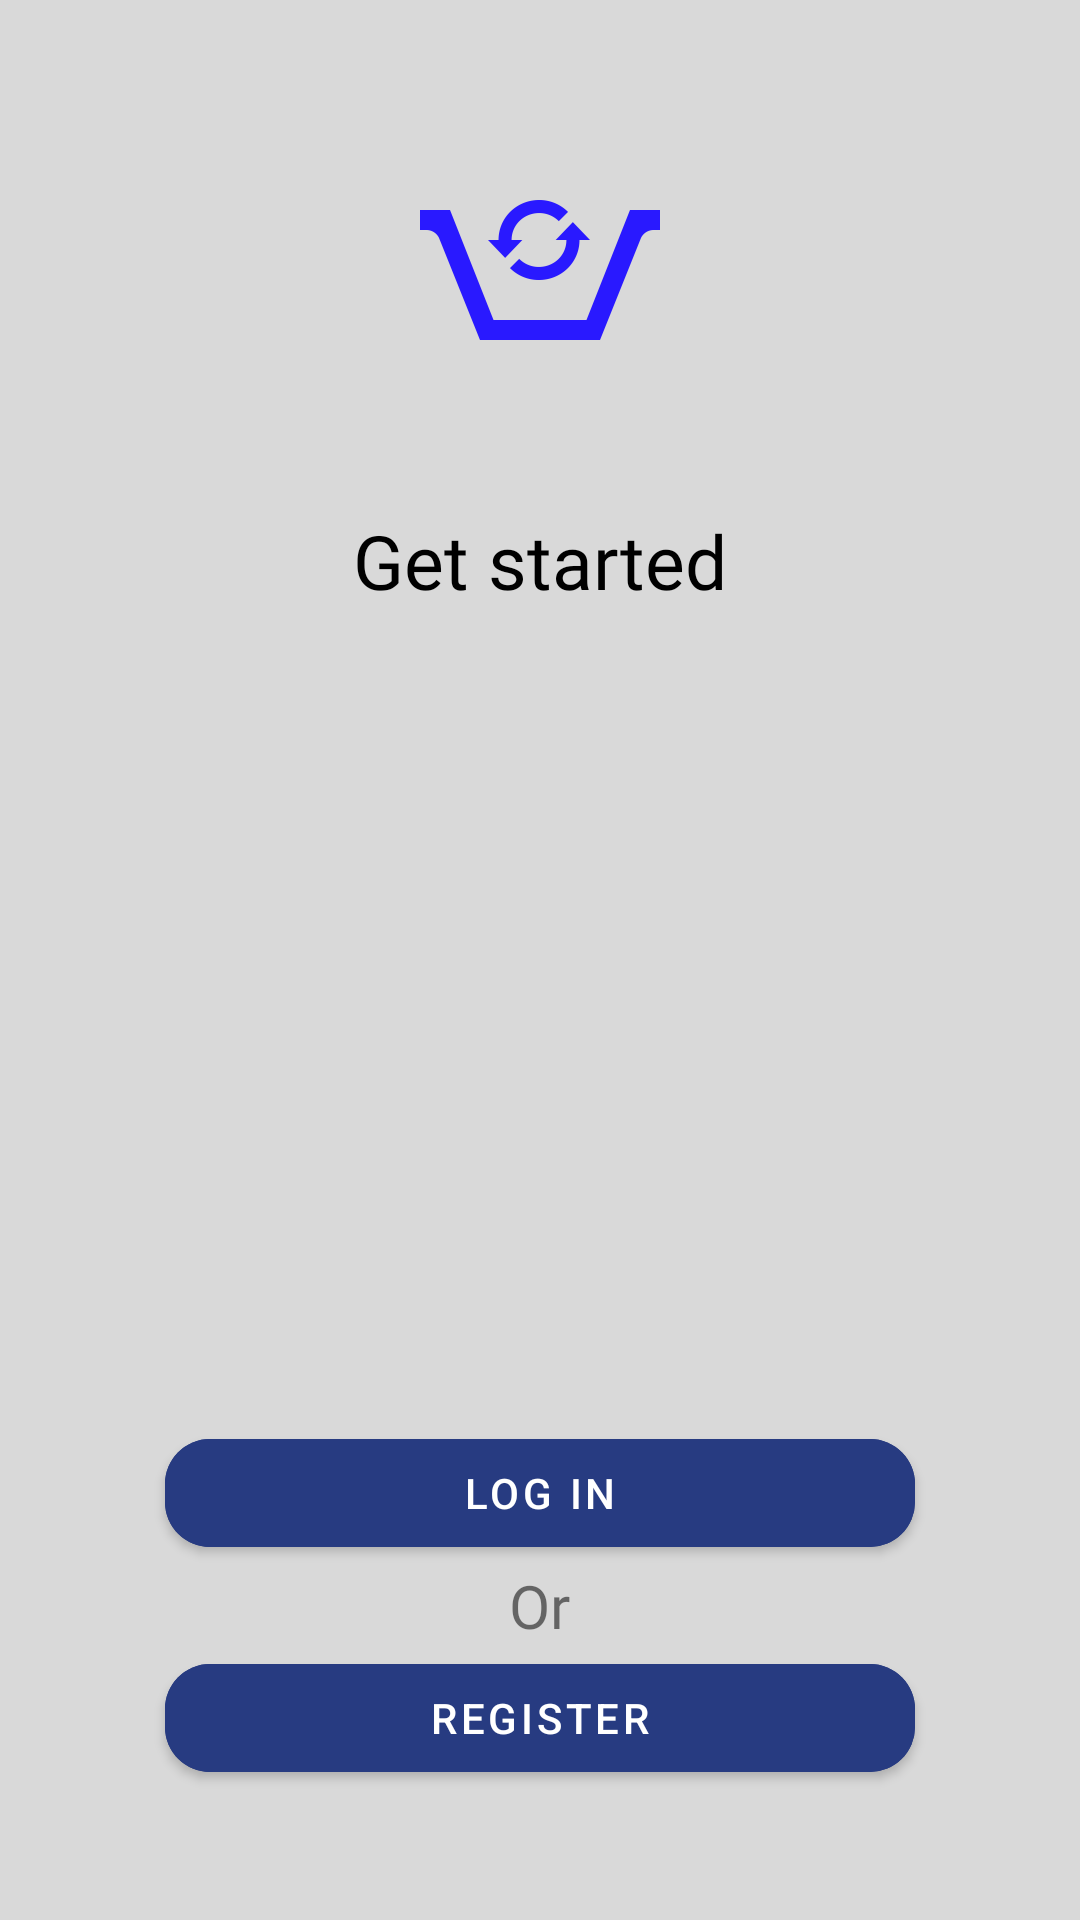

Icons on this 1080px×1920px Android screen, each with its box as (x1,y1,x2,y2):
cart: (420,200,660,340)
